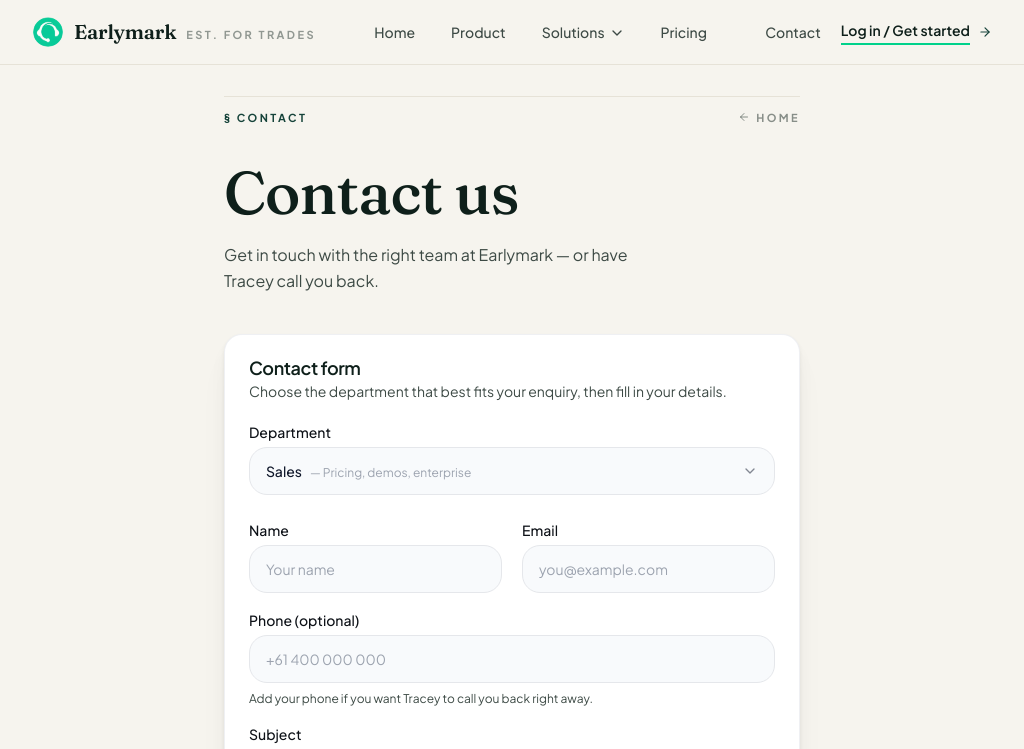
Test: public contact page › shows API errors from the contact route
The image size is (1024, 749).
Type "Miguel Wu" into the field labelled "Name" at [376, 569], box [249,545,502,593]
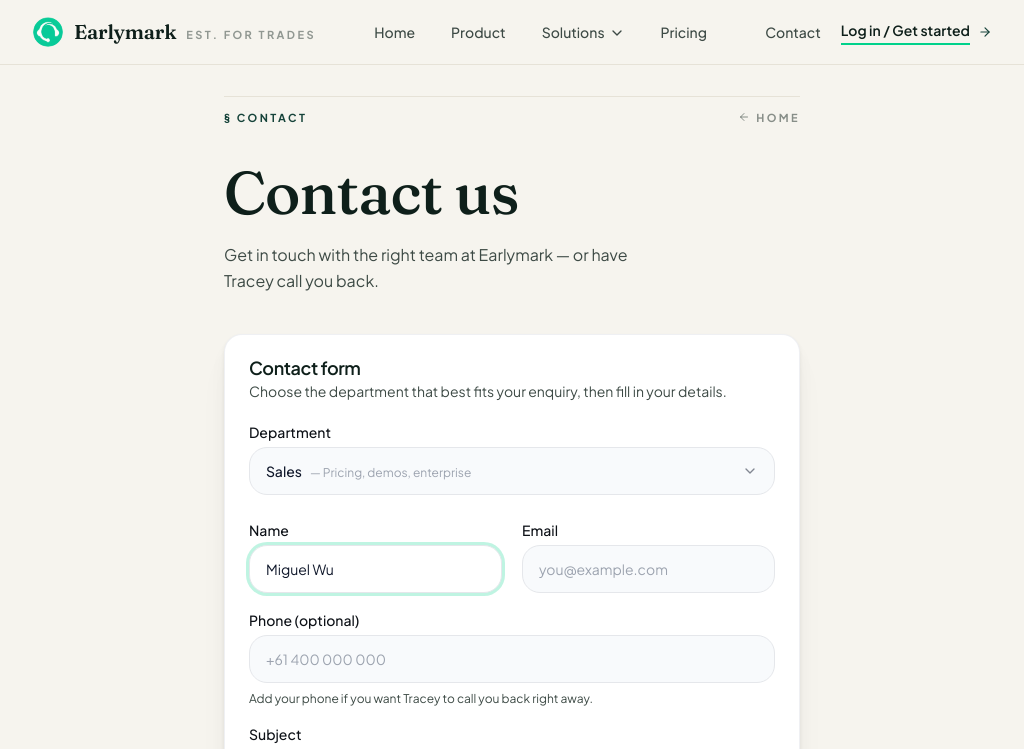
Type "miguel@example.com" into the field labelled "Email" at [648, 569], box [522,545,775,593]
(page scrolled)
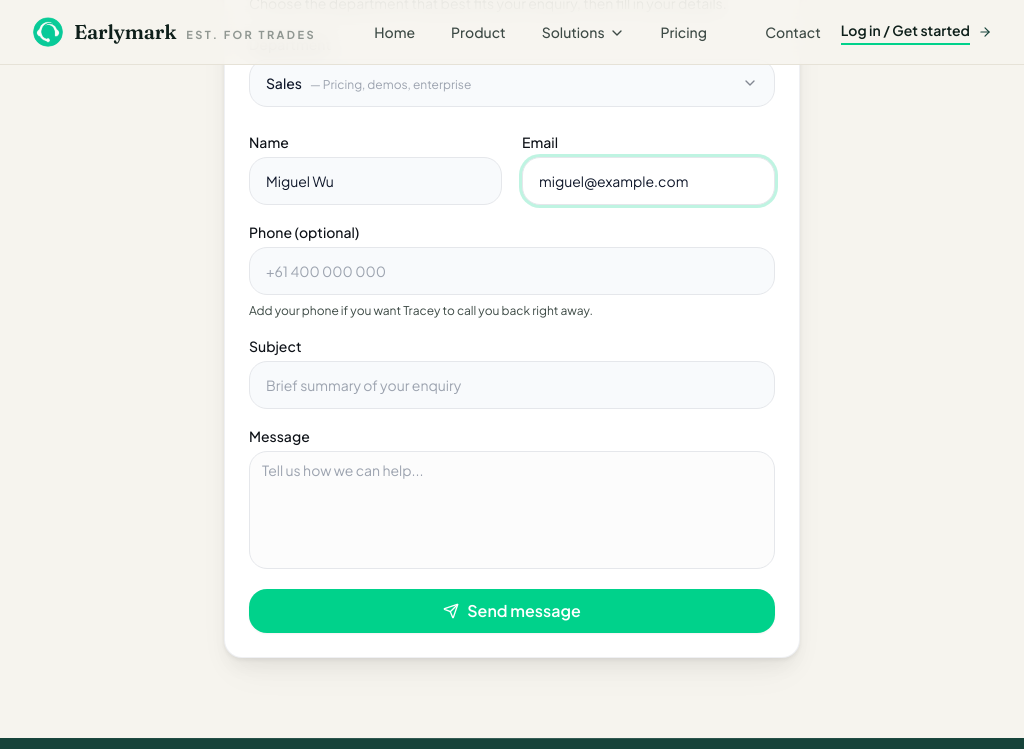
Type "Need a demo" into the field labelled "Subject" at [512, 385], box [249,361,775,409]
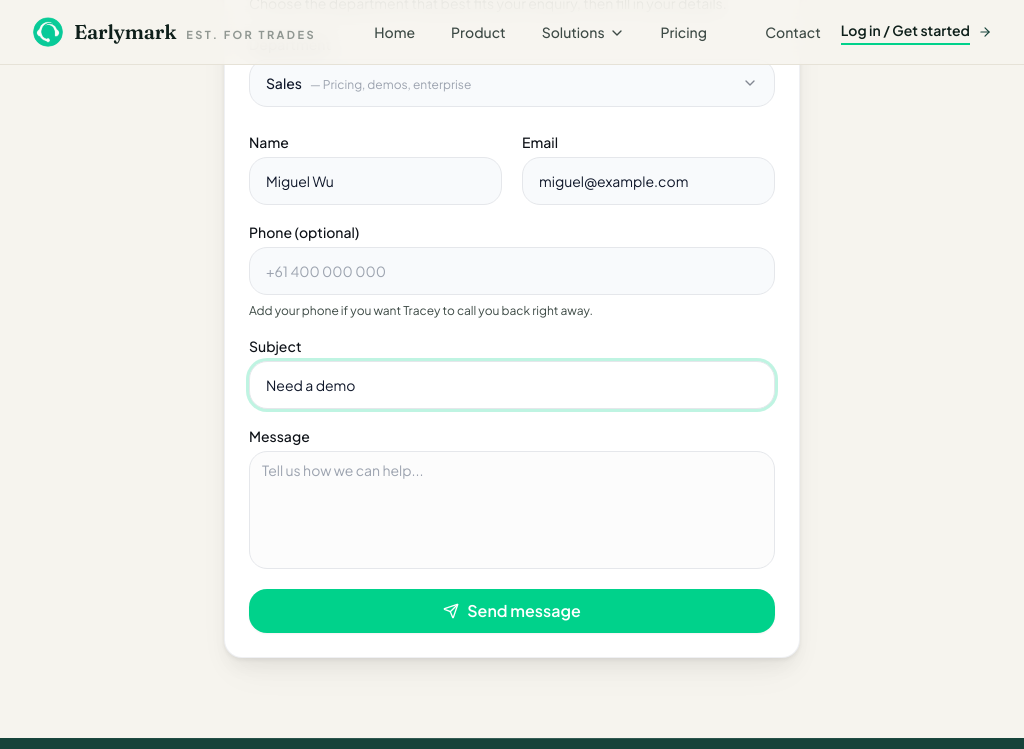
Type "Please get Tracey to call me." into the text box labelled "Message" at [512, 510], box [249,451,775,569]
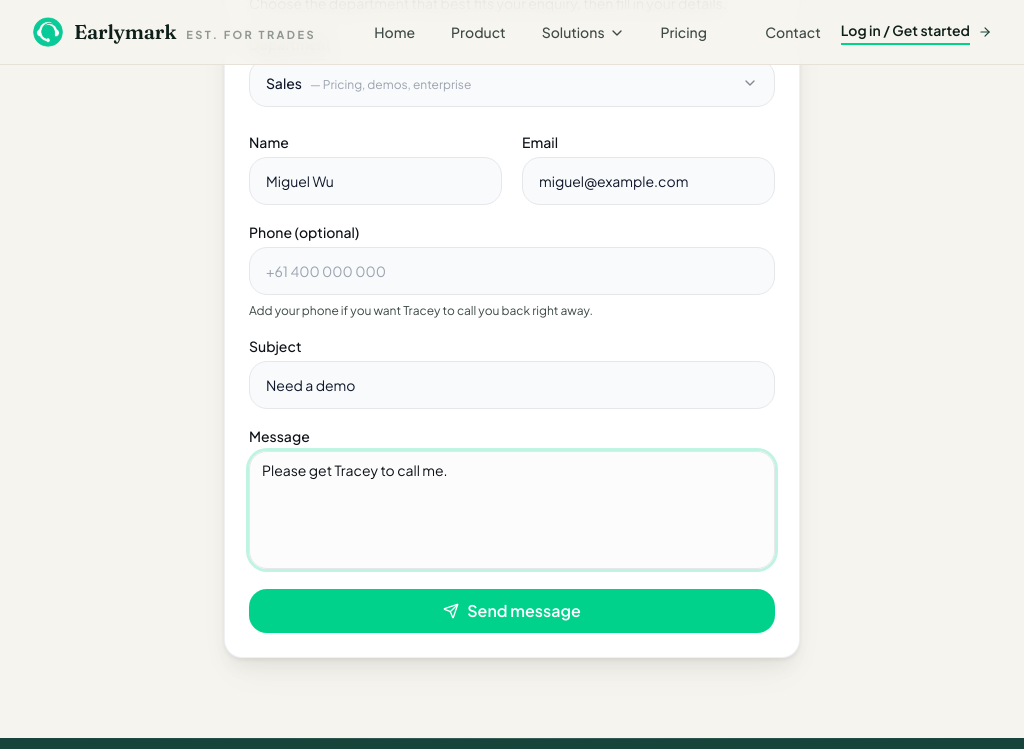
Click the button "Send message" at [512, 611], box [249,589,775,633]
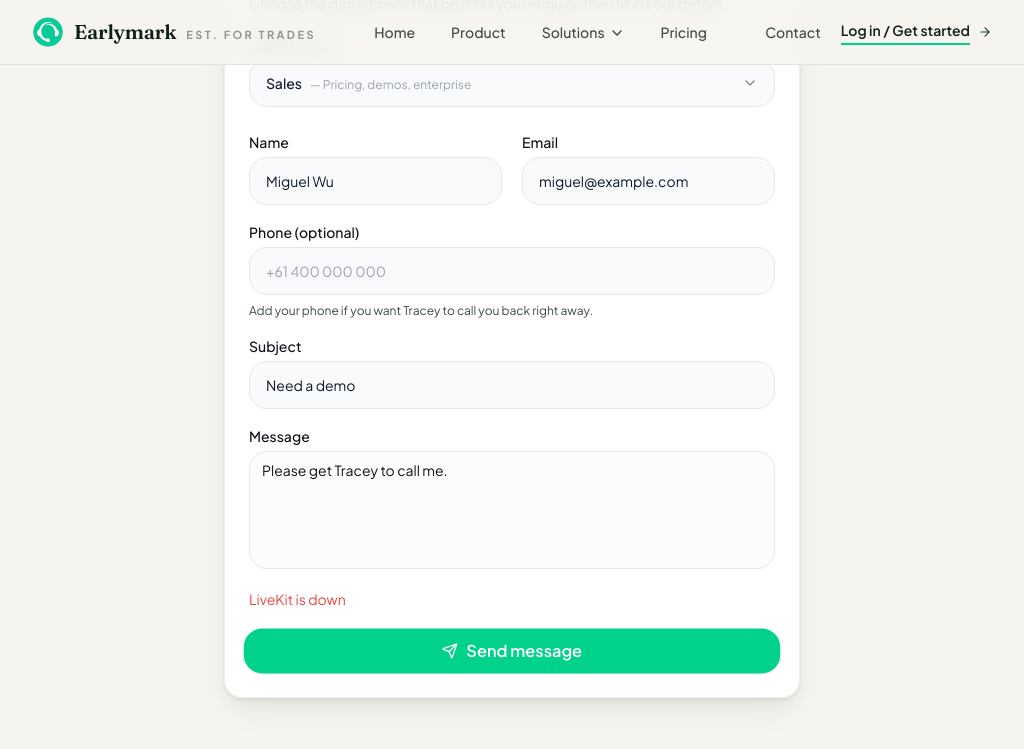
Result: the text "LiveKit is down" is shown at [249,590,346,608]
